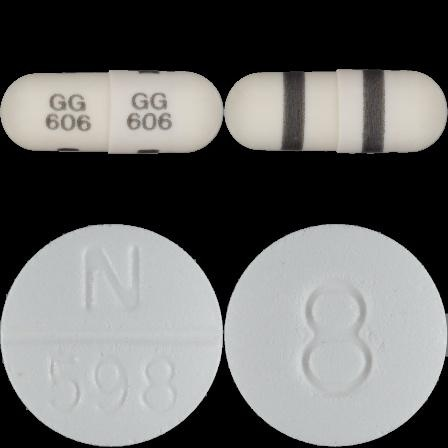35356-974: (0, 0, 224, 224)
